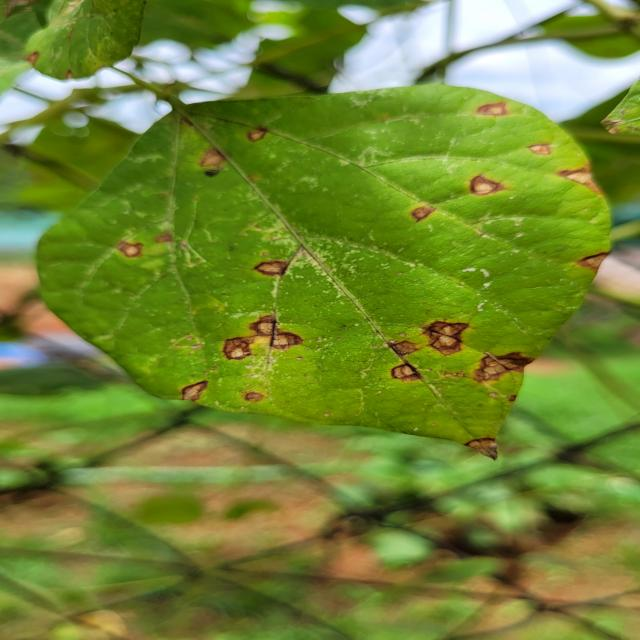Dolicos bean_cercospora leaf spot: (35, 84, 614, 458)
